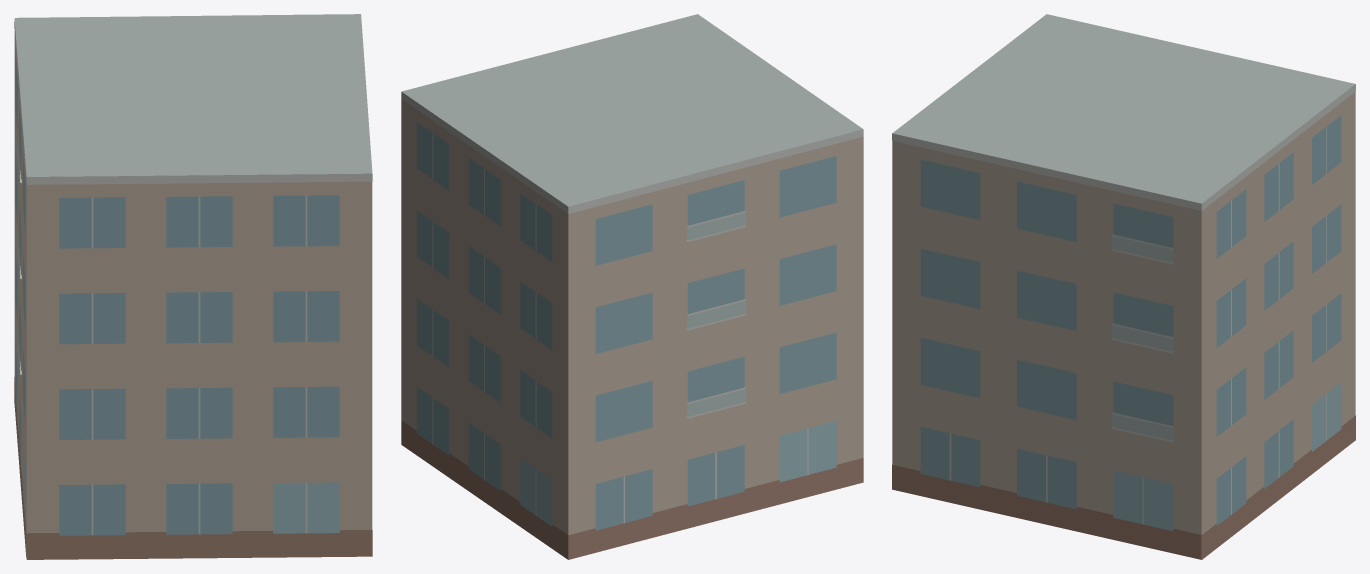
Rendered from survey-upis-32722723.glb.
3 renders of one model, left to right at view 1: azimuth 30°, elevation 25°; view 2: azimuth 150°, elevation 25°; view 3: azimuth 270°, elevation 25°, orthographic. The views are drawn at different scales.
Parts seen in each view (by area): view 1: survey-upis-32722723.tmp; view 2: survey-upis-32722723.tmp; view 3: survey-upis-32722723.tmp.
Boxes of the visible parts, x1=… form: survey-upis-32722723.tmp: x1=14, y1=14, x2=372, y2=559; survey-upis-32722723.tmp: x1=401, y1=14, x2=863, y2=559; survey-upis-32722723.tmp: x1=892, y1=14, x2=1355, y2=559.
Bounding box in the file's own units: 13.56 × 11.86 × 14.
